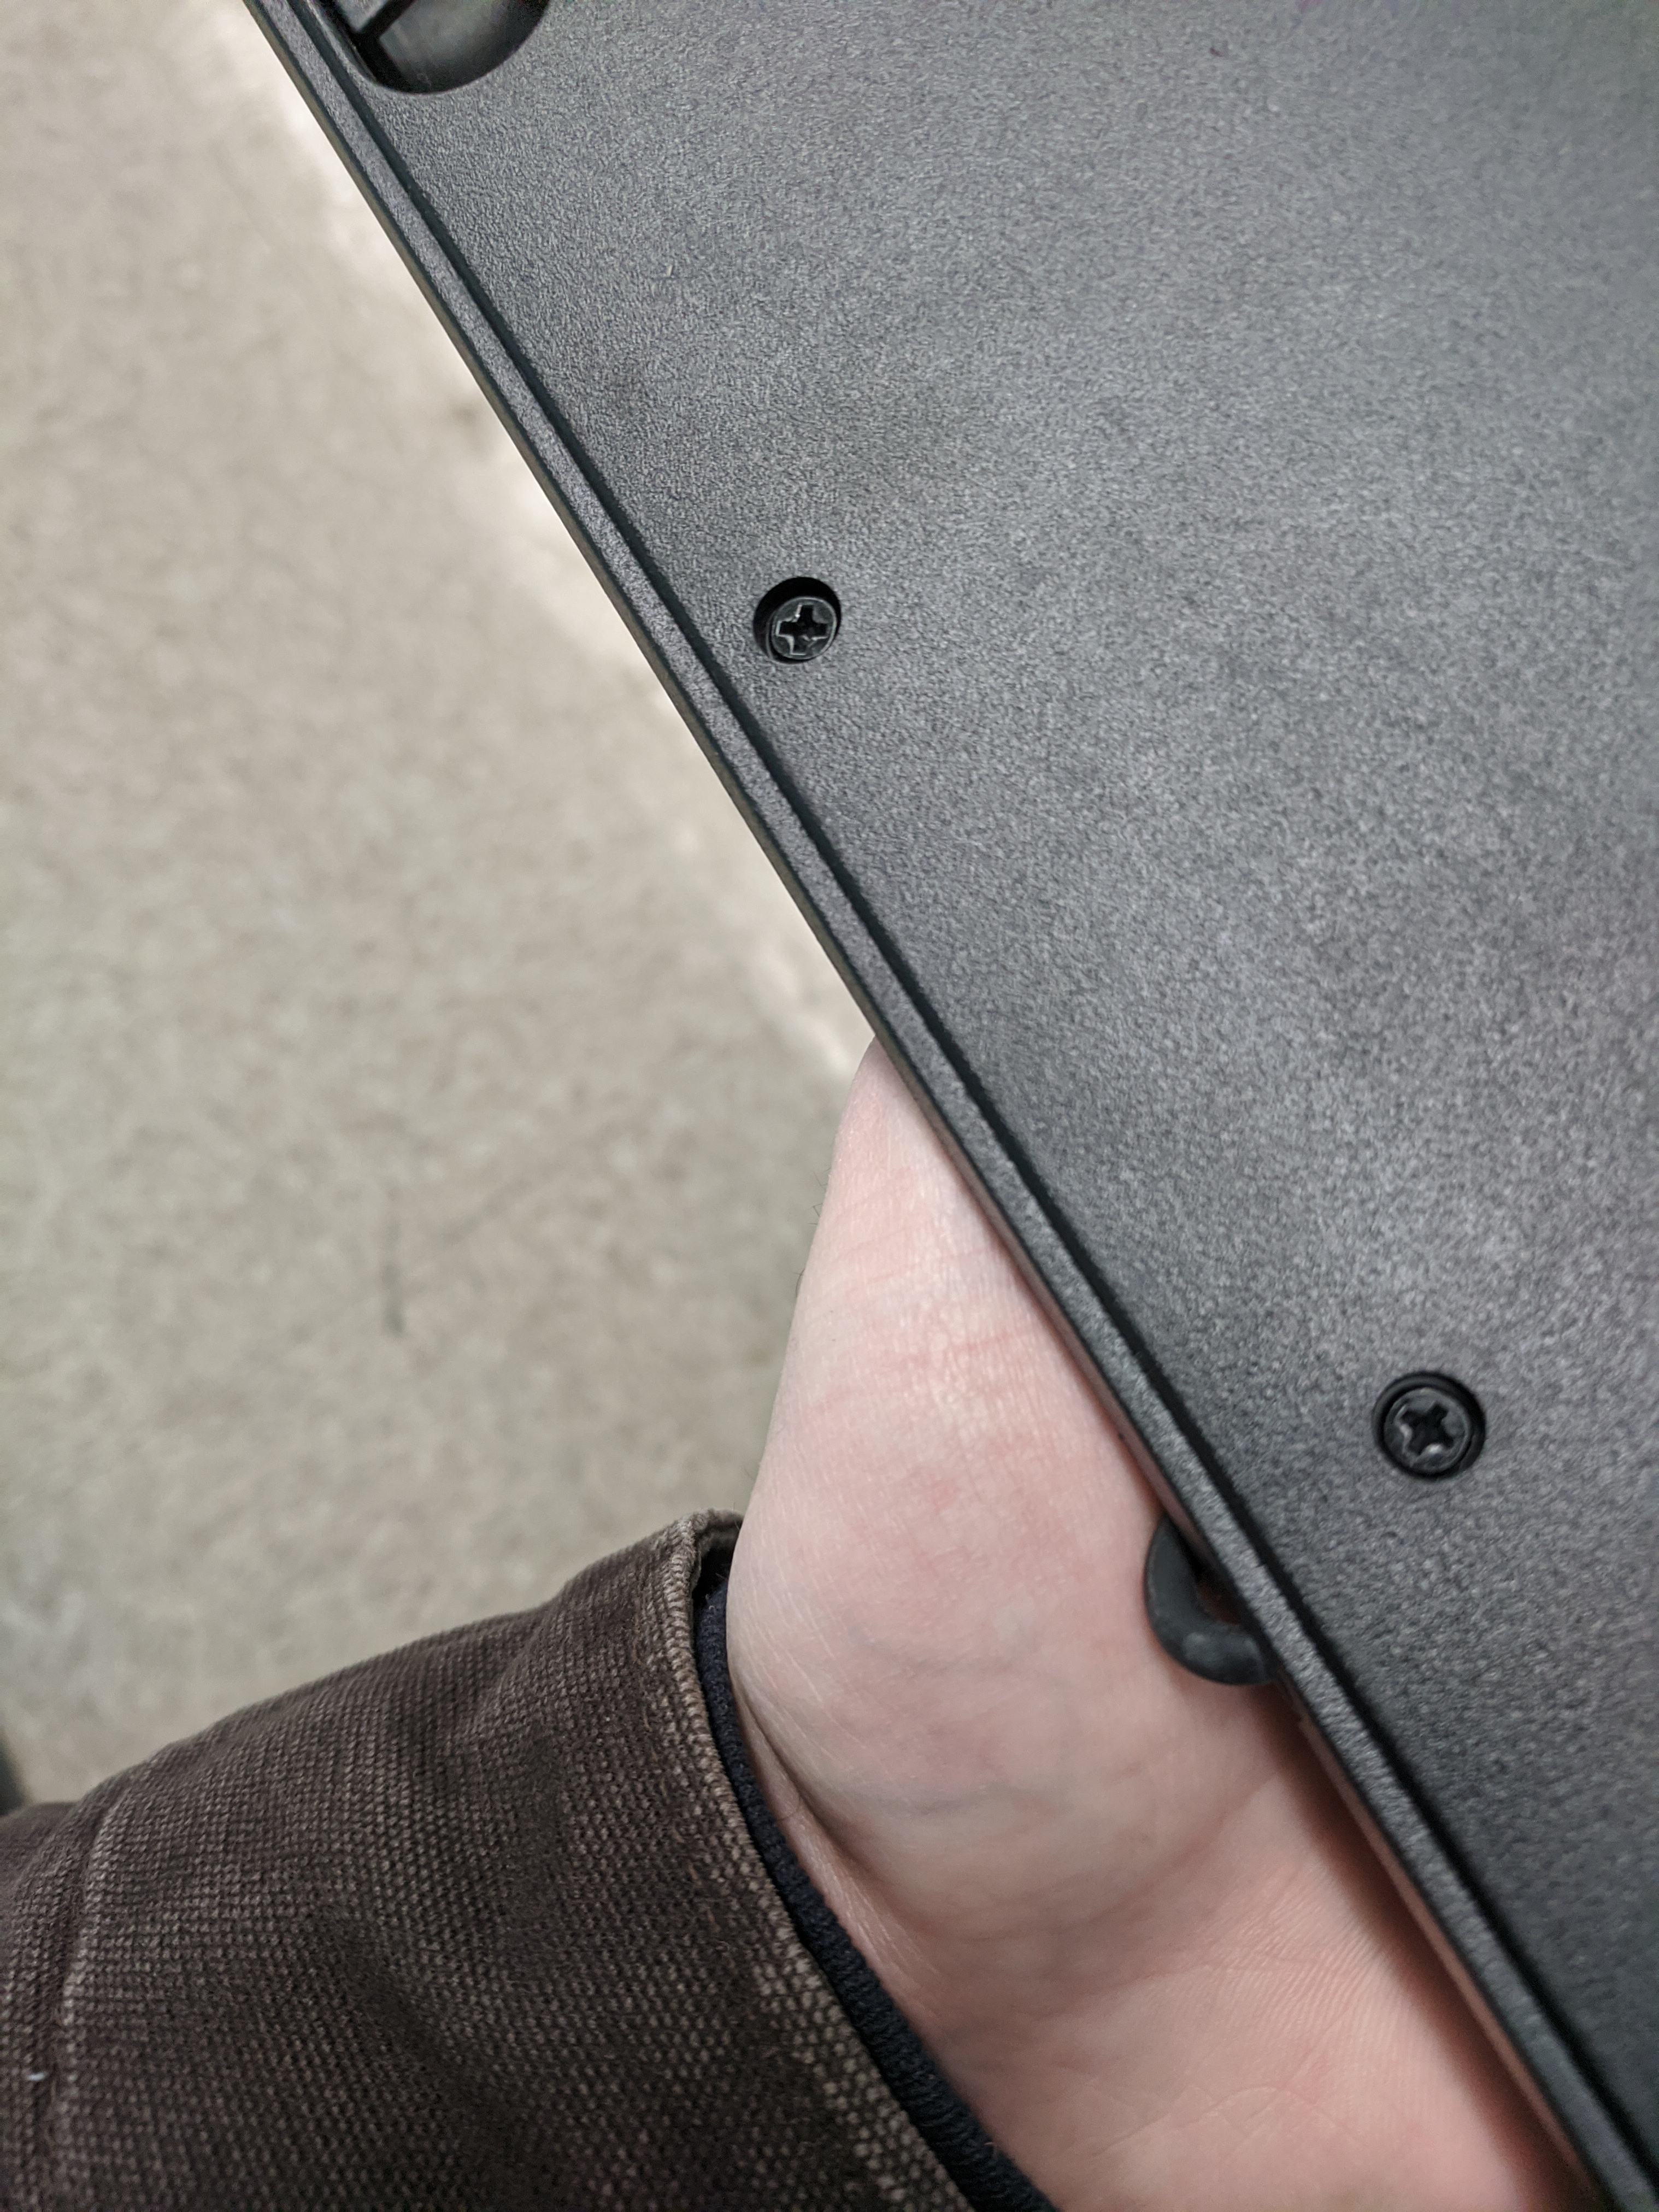cross_recessed_screw: (1361, 1362, 1481, 1479), (739, 564, 852, 671)
